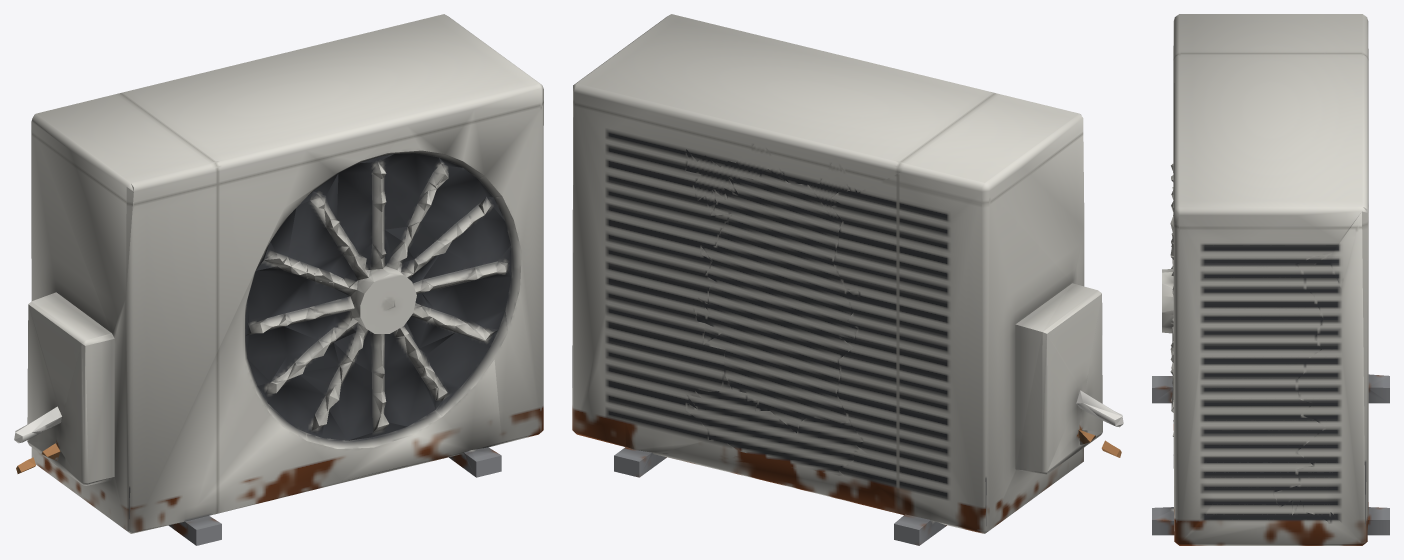
Rendered from cuc_nong_may_lanh_edits.mid.glb.
3 renders of one model, left to right at view 1: azimuth 30°, elevation 25°; view 2: azimuth 150°, elevation 25°; view 3: azimuth 270°, elevation 25°, orthographic. The views are drawn at different scales.
Parts seen in each view (by area): view 1: cuc_nong_may_lanh_edits; view 2: cuc_nong_may_lanh_edits; view 3: cuc_nong_may_lanh_edits.
Part boxes in pixels (x1=…): cuc_nong_may_lanh_edits: x1=14, y1=14, x2=543, y2=545; cuc_nong_may_lanh_edits: x1=572, y1=14, x2=1123, y2=545; cuc_nong_may_lanh_edits: x1=1152, y1=14, x2=1389, y2=545.
Size of the model in its own units: 0.7763 by 0.5488 by 0.335.
Materials: 1 (1 with a texture image).
